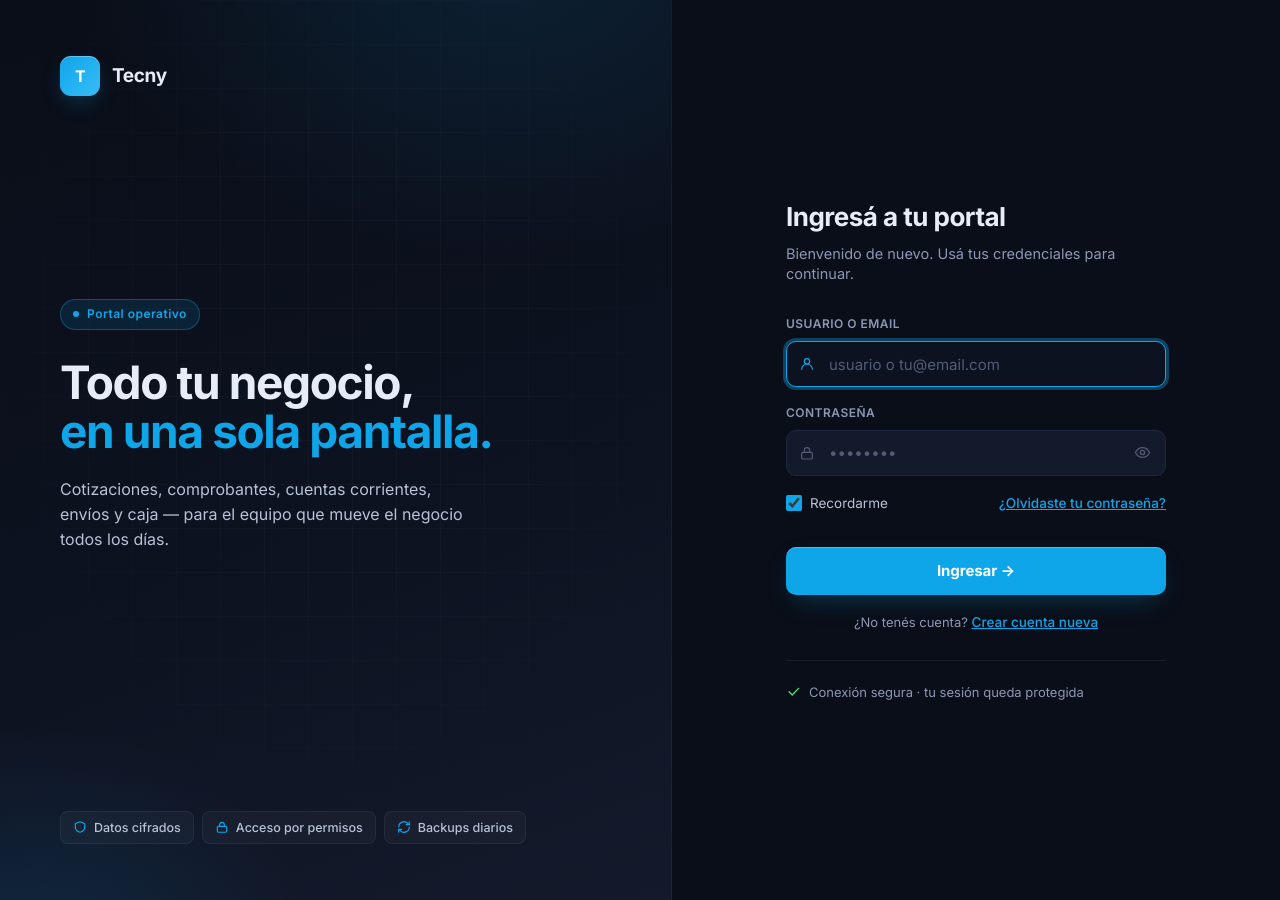
Test: Login — toggle ojito + flow 2FA › error de login muestra mensaje al usuario
The image size is (1280, 900).
In the field labelled "Usuario o email": (976, 364) [786, 341, 1166, 387], type "lucas"
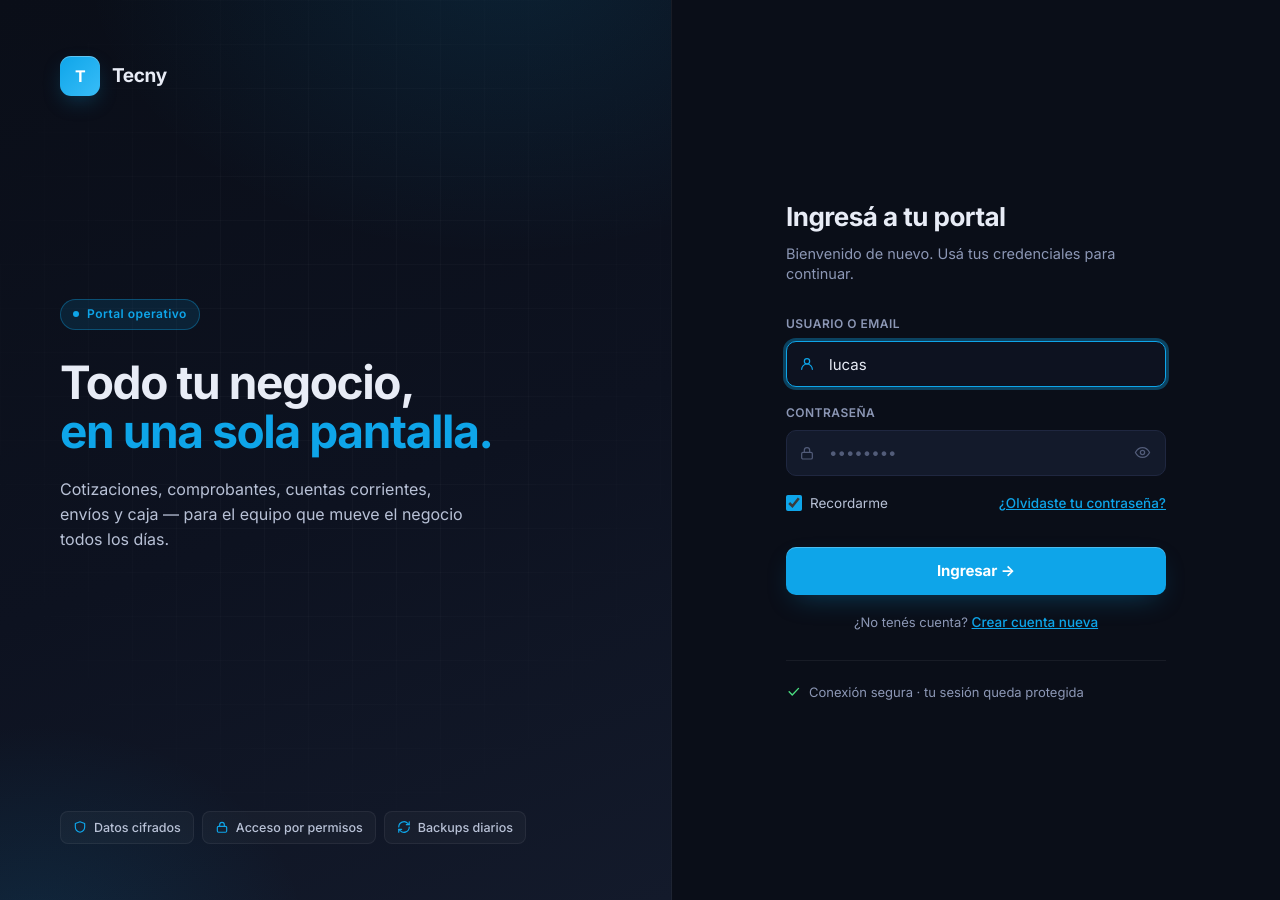
In the password field with placeholder "••••••••": (976, 453) [786, 430, 1166, 476], type "wrong"
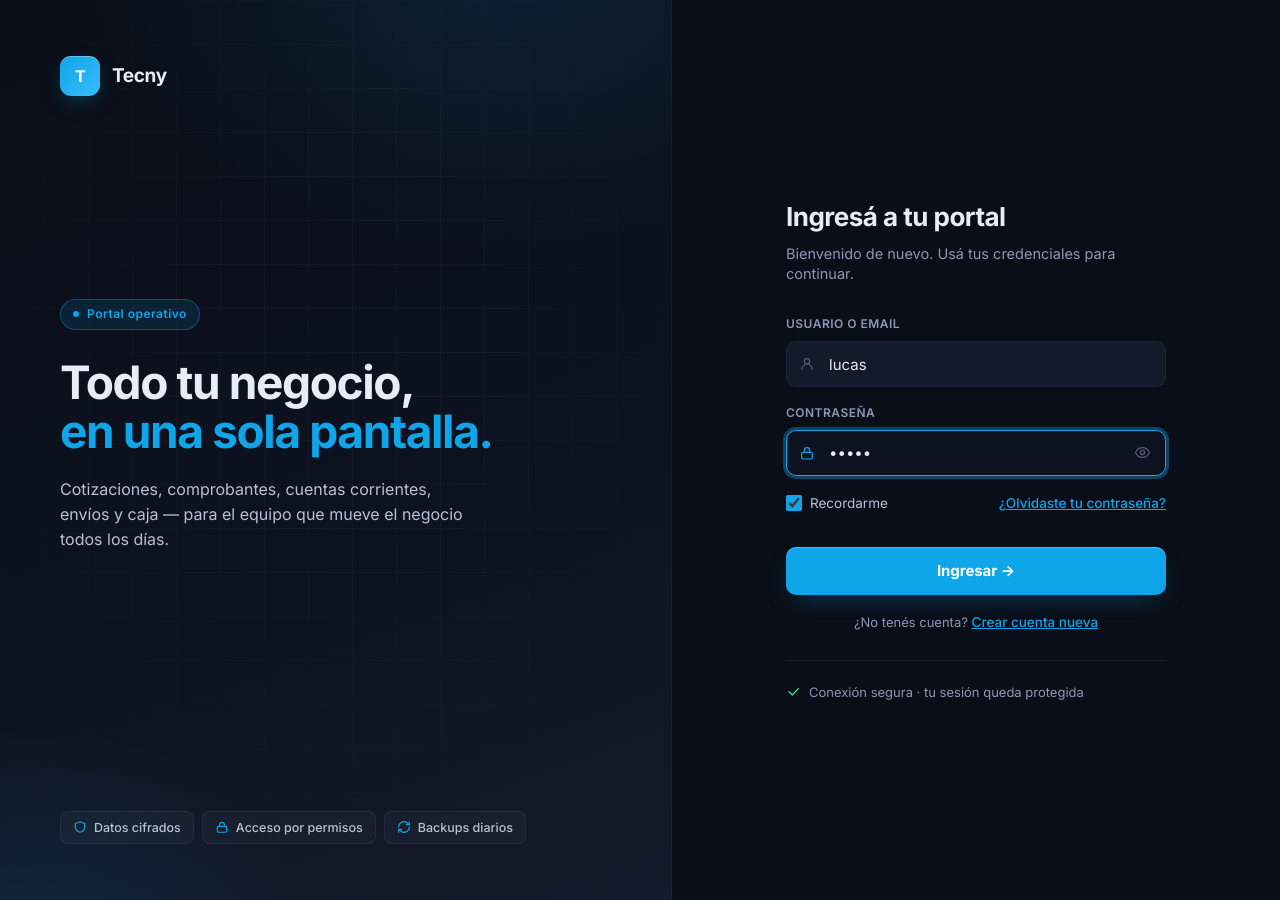
Click the button "Ingresar →": (976, 571) [786, 547, 1166, 595]
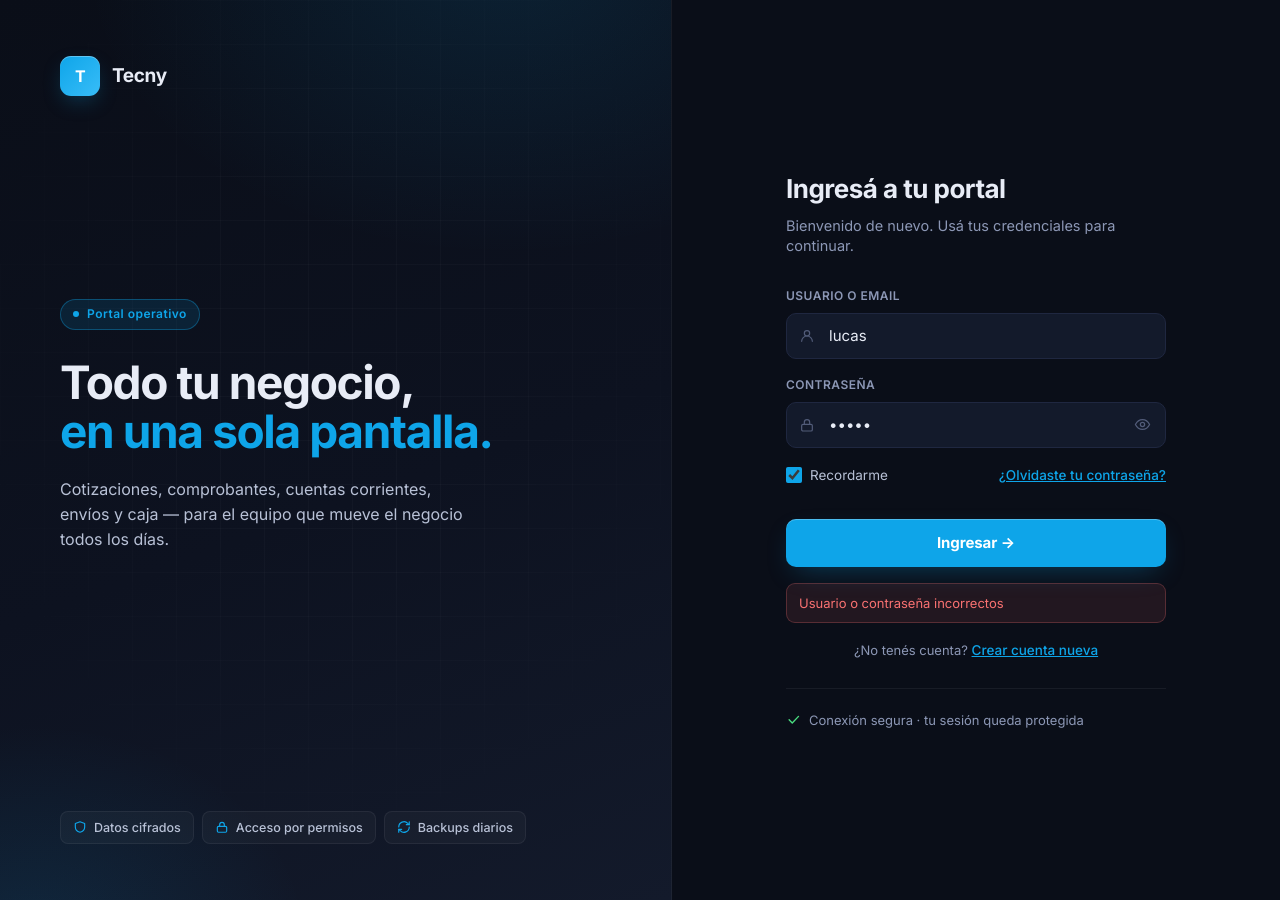
Expected: the text "Usuario o contraseña incorrectos" is shown, [786, 583, 1166, 623]
